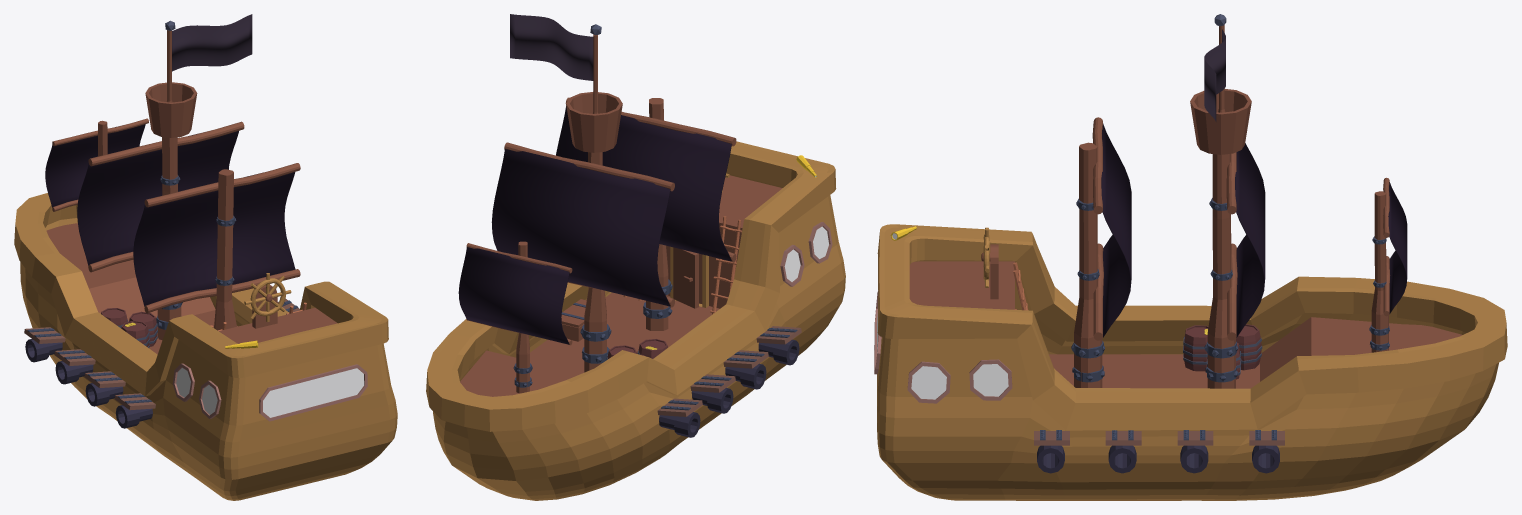
File: Jacks_boat.fbx
3 renders of one model, left to right at view 1: azimuth 30°, elevation 25°; view 2: azimuth 150°, elevation 25°; view 3: azimuth 270°, elevation 25°, orthographic. The views are drawn at different scales.
Visible parts, largest first — view 1: Plane, Plane.007, Plane.003, Plane.002, Gun.001, Cylinder.024, Plane.005, Plane.006, Cylinder.031, Cylinder, Cylinder.010, Cylinder.033 (+9 smaller); view 2: Plane, Plane.003, Plane.002, Plane.007, Plane.006, Gun.001, Plane.005, Cylinder, Cylinder.010, Cube.002, Cylinder.031, Cylinder.002 (+7 smaller); view 3: Plane, Plane.002, Gun.006, Plane.007, Plane.003, Cylinder.010, Cylinder.031, Cylinder, Plane.006, Cylinder.025, Cylinder.021, Cylinder.020 (+6 smaller).
Boxes of the visible parts, x1,y1,x2,y2 form: Plane: [14, 193, 397, 500]; Plane.007: [133, 172, 295, 306]; Plane.003: [77, 131, 238, 265]; Plane.002: [46, 223, 337, 354]; Gun.001: [24, 327, 155, 428]; Cylinder.024: [259, 364, 367, 421]; Plane.005: [172, 14, 252, 71]; Plane.006: [45, 124, 145, 207]; Cylinder.031: [214, 169, 236, 330]; Cylinder: [145, 82, 197, 137]; Cylinder.010: [157, 30, 181, 340]; Cylinder.033: [144, 163, 300, 207]; Plane: [426, 141, 845, 500]; Plane.003: [491, 149, 670, 306]; Plane.002: [460, 175, 782, 396]; Plane.007: [556, 106, 731, 261]; Plane.006: [458, 247, 569, 344]; Gun.001: [657, 326, 801, 437]; Plane.005: [510, 14, 593, 80]; Cylinder: [566, 92, 622, 152]; Cylinder.010: [584, 34, 606, 372]; Cube.002: [673, 247, 698, 308]; Cylinder.031: [646, 98, 668, 330]; Cylinder.002: [504, 142, 674, 191]; Plane: [877, 224, 1507, 500]; Plane.002: [909, 261, 1462, 388]; Gun.006: [1034, 430, 1284, 473]; Plane.007: [1101, 123, 1131, 337]; Plane.003: [1235, 143, 1265, 337]; Cylinder.010: [1207, 25, 1235, 388]; Cylinder.031: [1074, 142, 1102, 387]; Cylinder: [1190, 89, 1251, 154]; Plane.006: [1388, 182, 1407, 313]; Cylinder.025: [1371, 191, 1388, 352]; Cylinder.021: [907, 361, 950, 403]; Cylinder.020: [969, 359, 1012, 400].
Bounding box in the file's own units: 302 × 490 × 611.
